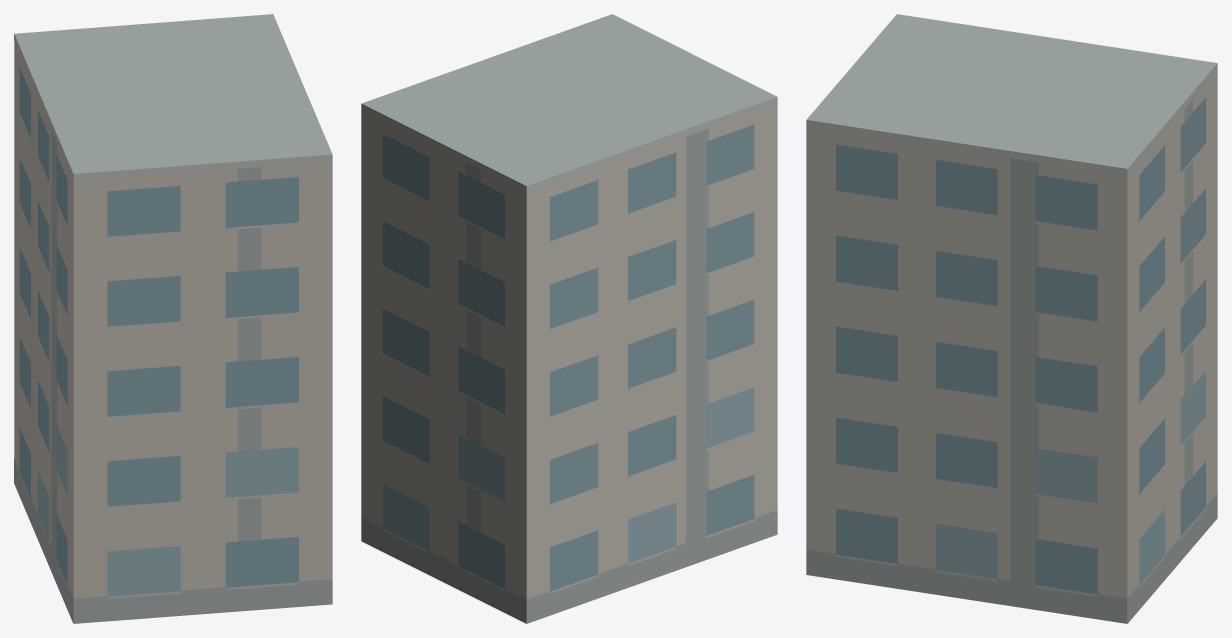
The model's file is residential-1055b67a-63b8-4a36-bcb9-d50b1dc63419.glb.
The picture shows the model from 3 angles, left to right: view 1: azimuth 30°, elevation 25°; view 2: azimuth 150°, elevation 25°; view 3: azimuth 270°, elevation 25°; orthographic projection. The views are drawn at different scales.
Parts seen in each view (by area): view 1: residential-1055b67a-63b8-4a36-bcb9-d50b1dc63419.tmp; view 2: residential-1055b67a-63b8-4a36-bcb9-d50b1dc63419.tmp; view 3: residential-1055b67a-63b8-4a36-bcb9-d50b1dc63419.tmp.
Boxes of the visible parts, <box> form: residential-1055b67a-63b8-4a36-bcb9-d50b1dc63419.tmp: <box>14,14,332,623</box>; residential-1055b67a-63b8-4a36-bcb9-d50b1dc63419.tmp: <box>361,14,777,623</box>; residential-1055b67a-63b8-4a36-bcb9-d50b1dc63419.tmp: <box>806,14,1217,623</box>.
Size of the model in its own units: 11.14 by 15.25 by 12.5.
